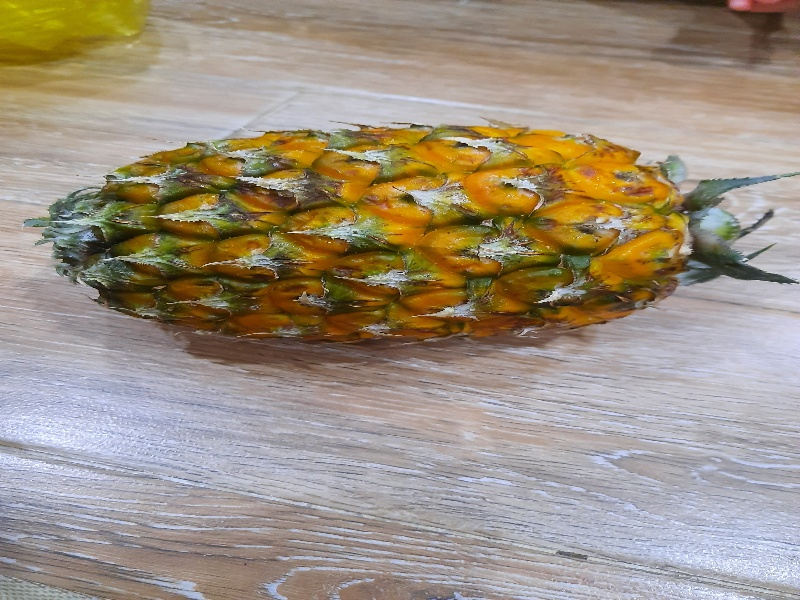fruit: (26, 108, 778, 362)
